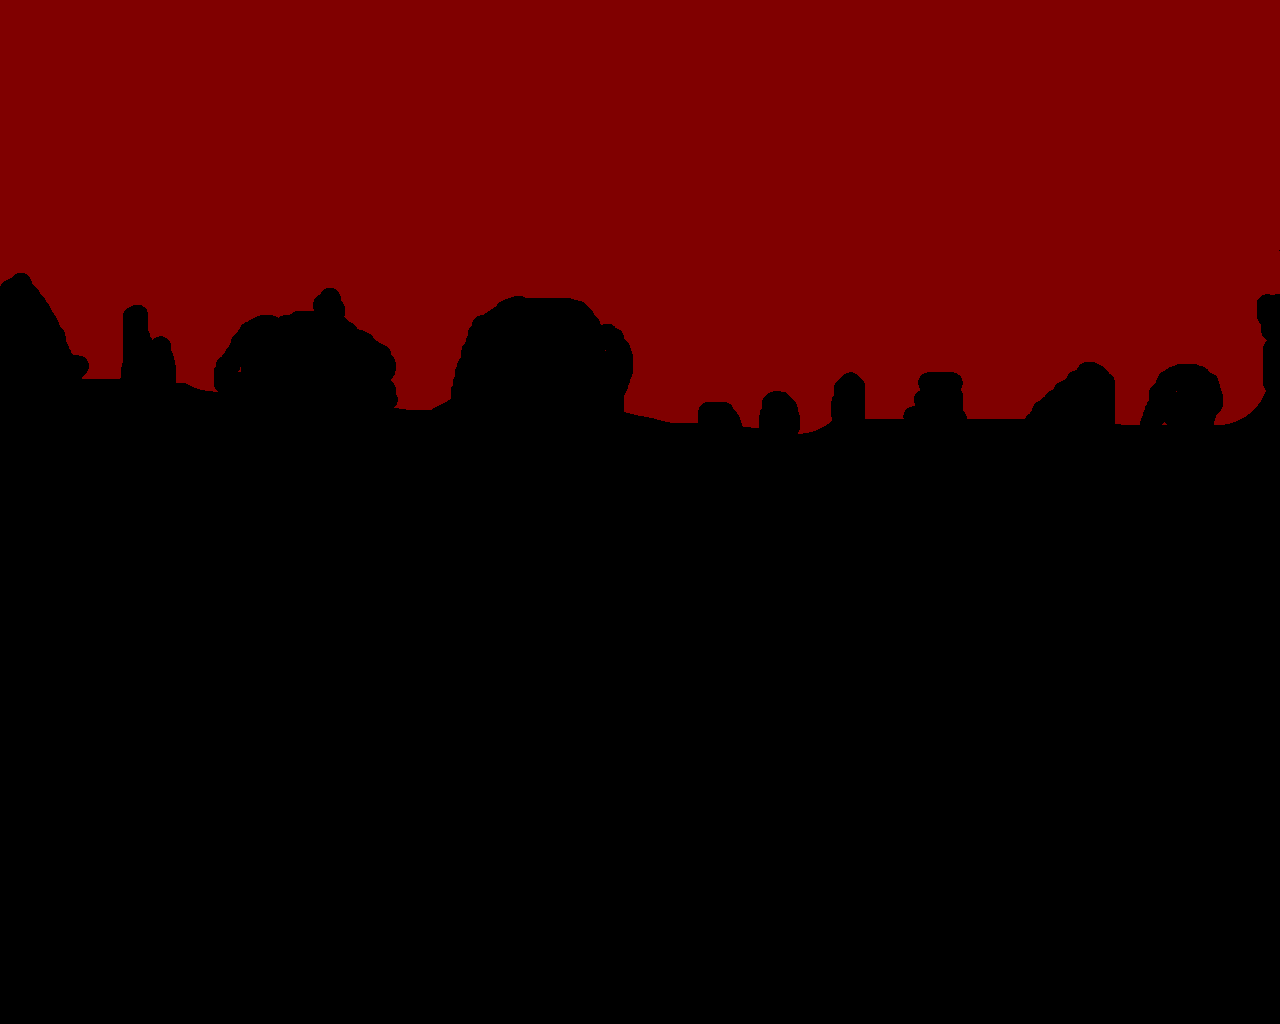Sky: (1, 1, 1279, 434)
